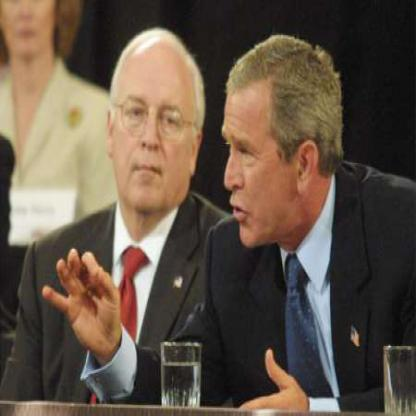face: (215, 47, 302, 251), (113, 33, 199, 214)
